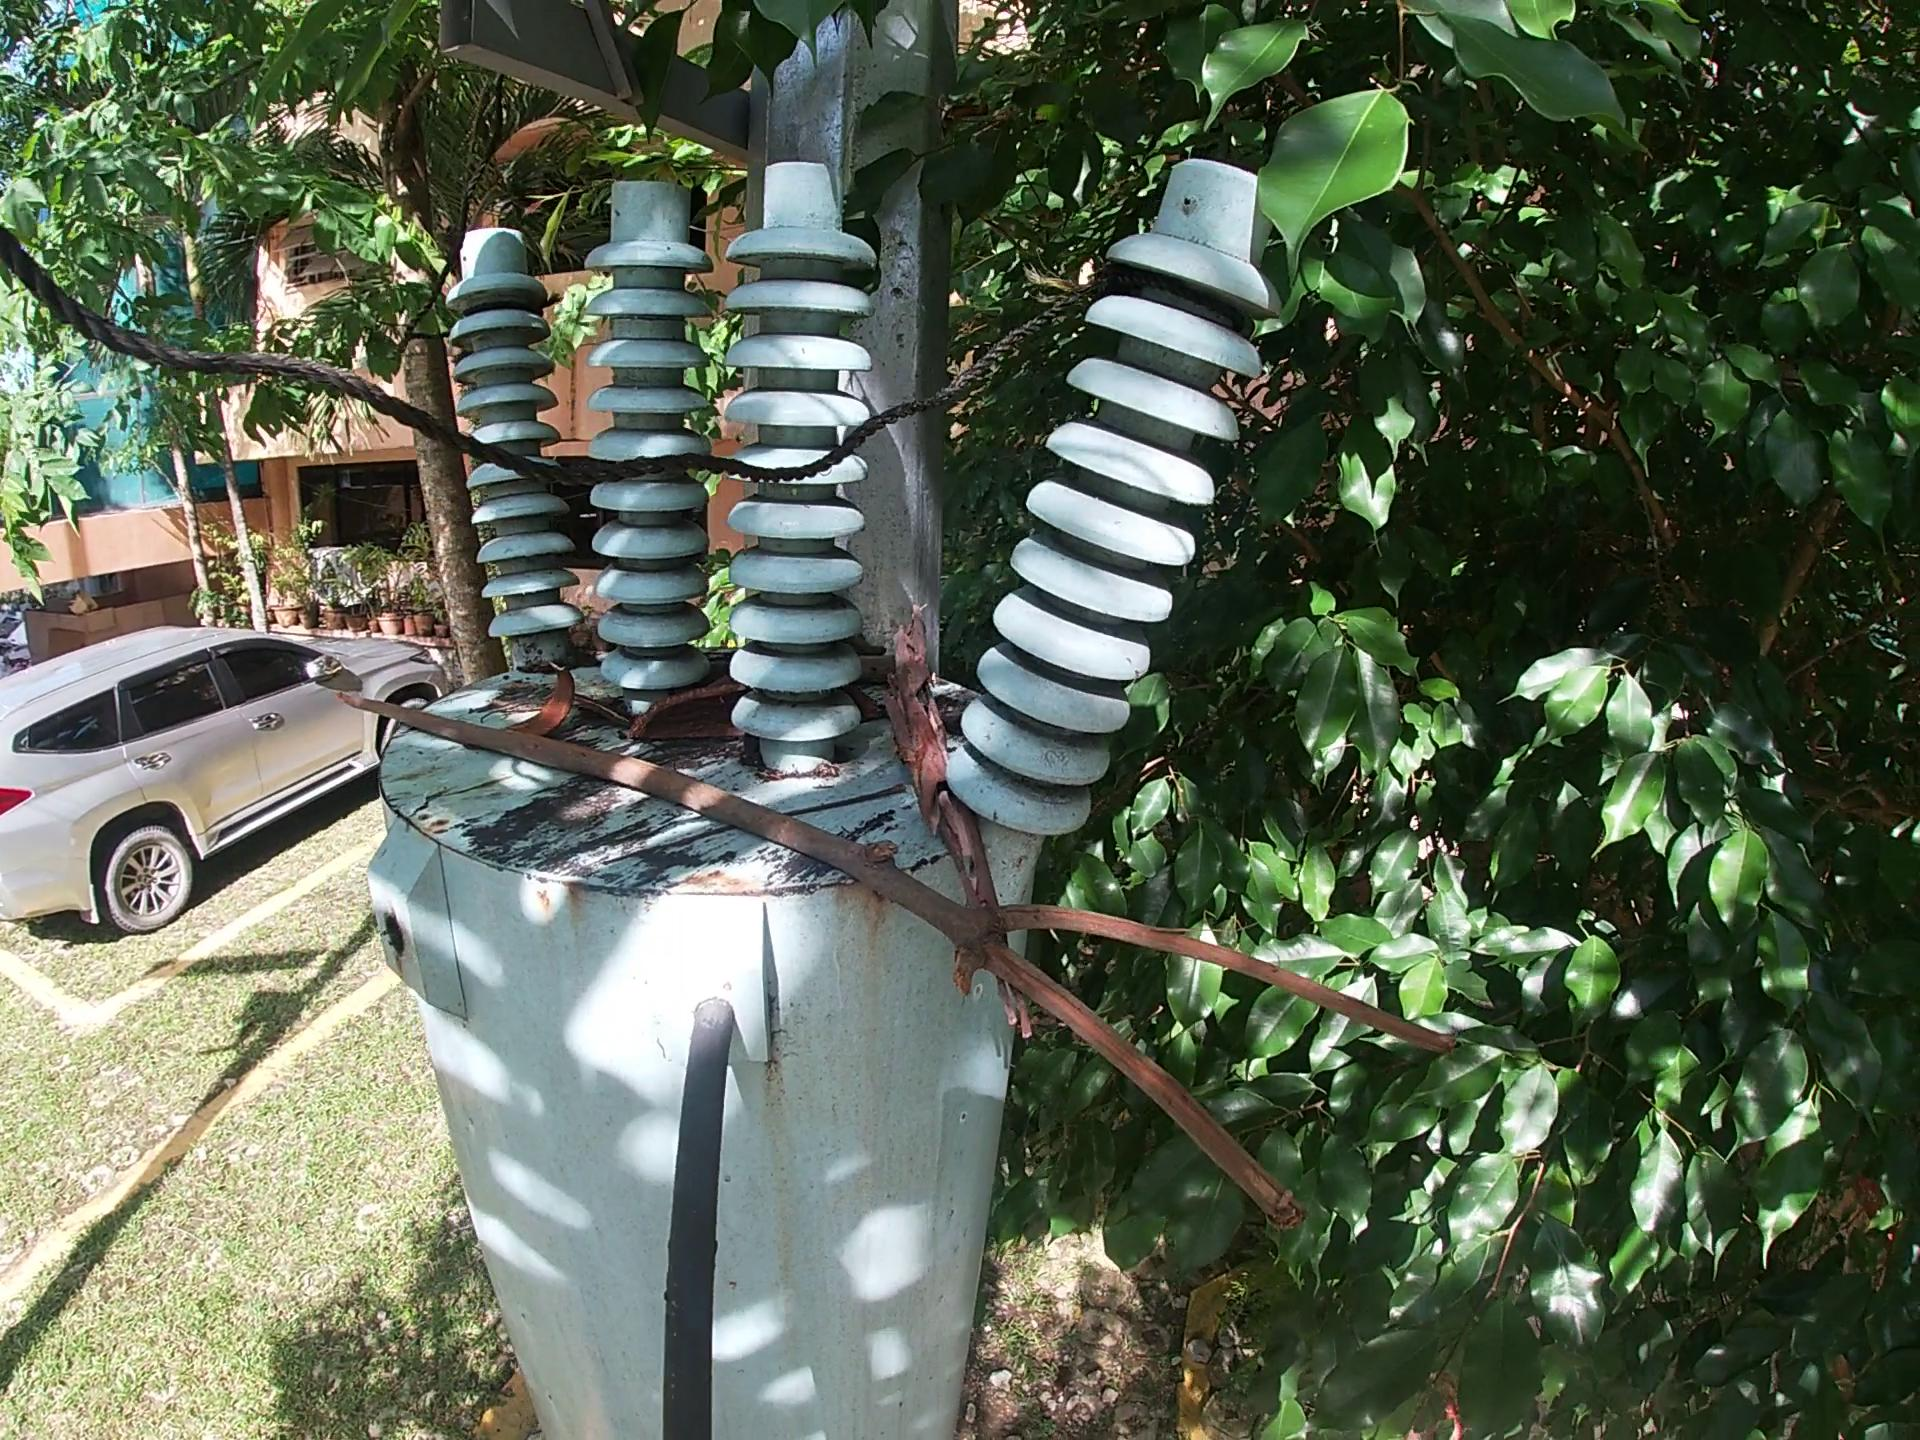mahogany fruit: (620, 681, 887, 749), (500, 659, 579, 744)
tree branch: (324, 675, 1457, 1230), (875, 599, 1036, 1045)
